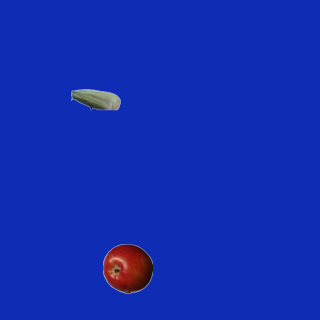Apple Braeburn: (102, 243, 152, 293)
Corn Husk: (70, 74, 120, 124)
